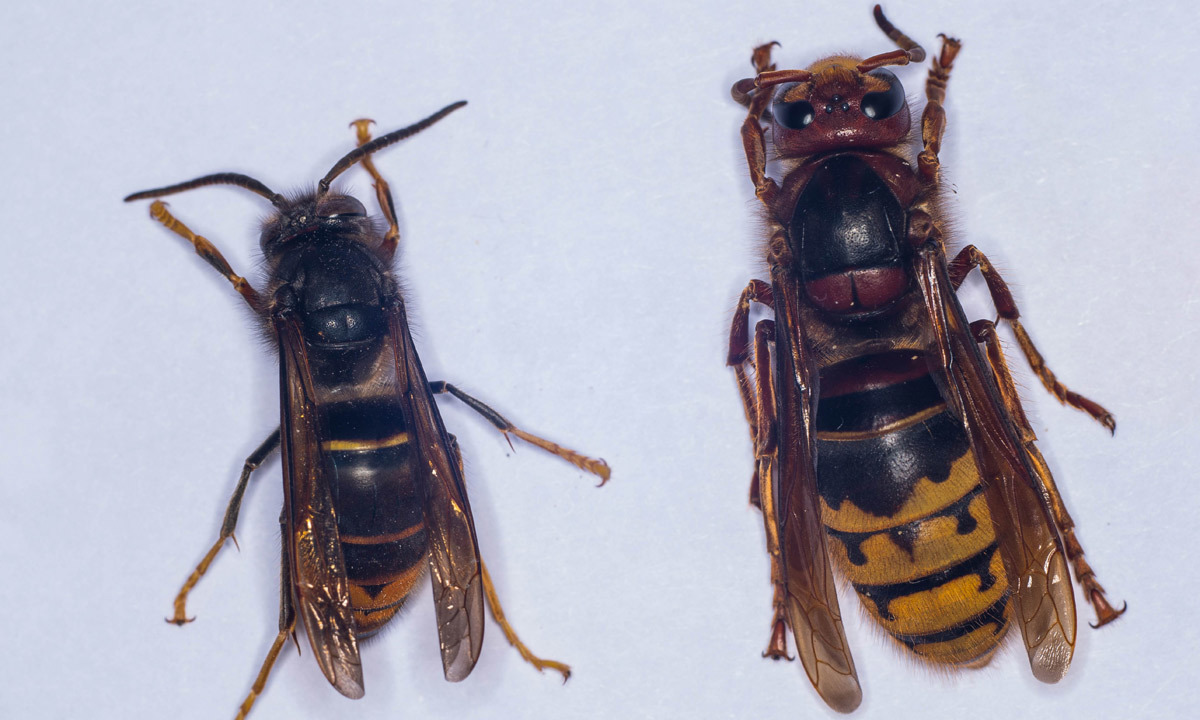hornet: (711, 1, 1097, 720), (196, 142, 498, 711)
